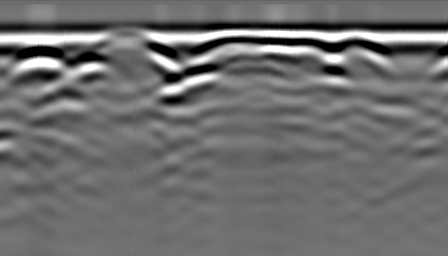pipe: (226, 33, 273, 56), (102, 30, 147, 51)
steel: (15, 49, 68, 84)
